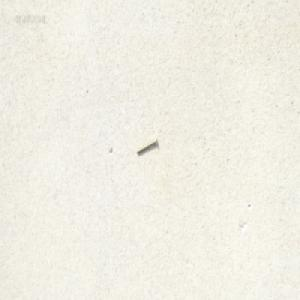Bolt: (136, 137, 158, 155)
